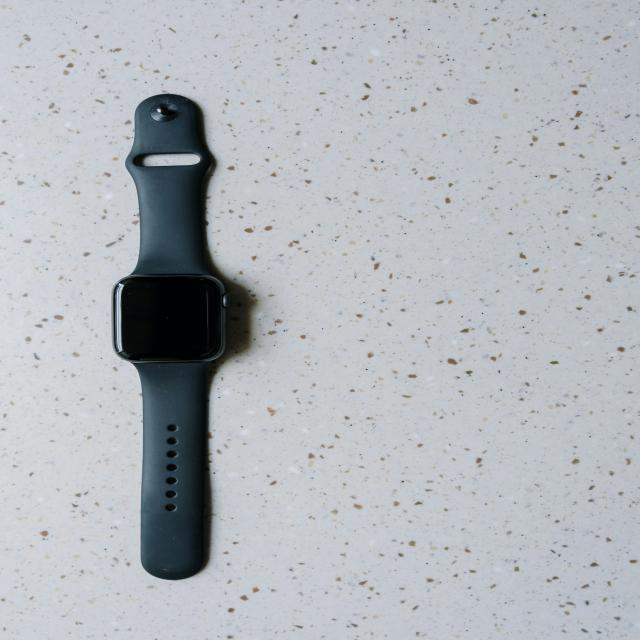relogio: (102, 82, 256, 587)
